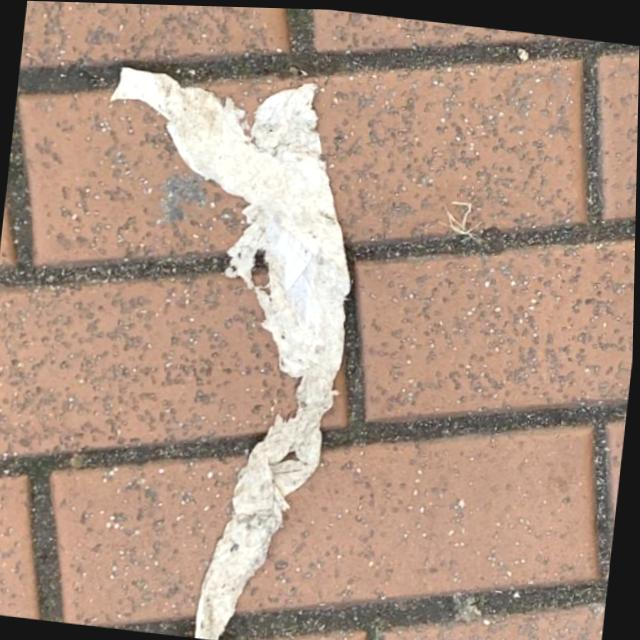Paper: (51, 57, 377, 640)
